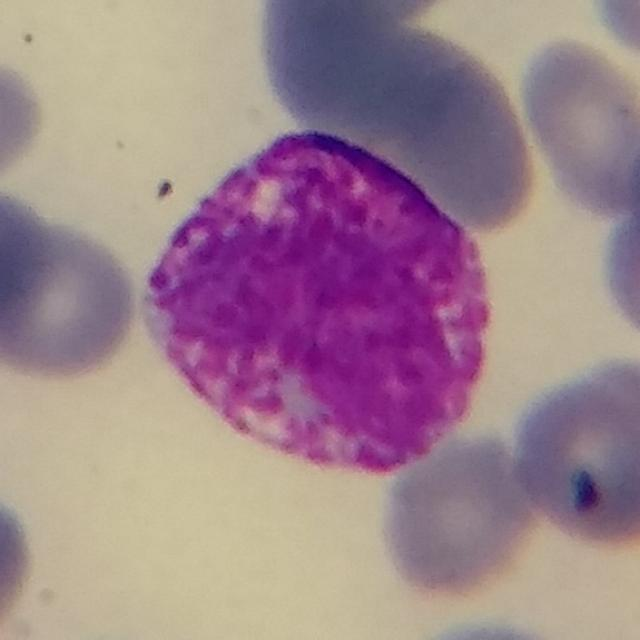Eosinophil: (117, 99, 522, 508)
RBC: (255, 0, 548, 230), (278, 272, 494, 478), (375, 428, 545, 606), (504, 351, 640, 554), (0, 207, 145, 386), (516, 32, 640, 222), (0, 177, 66, 358), (594, 140, 640, 351), (0, 50, 51, 190), (0, 480, 40, 639), (392, 612, 585, 640), (586, 0, 640, 62)
